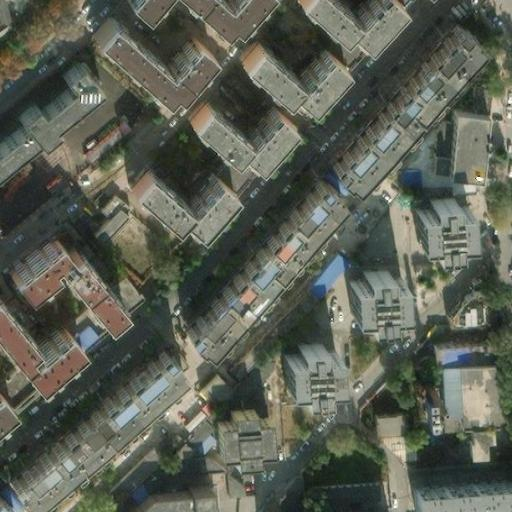building: (172, 185, 328, 359), (0, 351, 173, 507), (318, 30, 467, 195), (78, 20, 202, 100), (2, 240, 114, 327), (0, 54, 86, 153), (177, 104, 285, 169), (234, 50, 342, 115), (268, 248, 344, 335), (121, 171, 223, 234), (284, 0, 392, 49), (0, 318, 68, 384), (327, 191, 388, 257), (185, 0, 275, 40), (409, 479, 512, 512), (341, 266, 398, 322), (277, 339, 329, 397), (407, 196, 463, 249), (78, 107, 135, 159), (115, 450, 170, 503), (206, 407, 261, 459), (439, 113, 479, 180), (454, 366, 493, 428), (115, 487, 206, 512), (85, 190, 126, 241), (171, 411, 207, 458), (425, 335, 485, 359), (443, 291, 479, 328), (424, 119, 445, 176), (438, 368, 457, 429), (457, 426, 489, 461), (0, 389, 21, 438), (372, 412, 394, 431)
